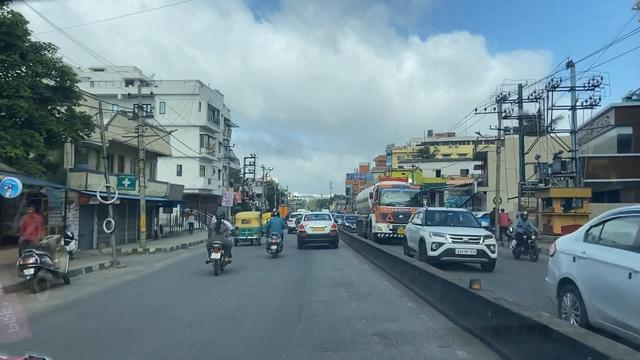LMV: (206, 211, 230, 273), (301, 213, 337, 246), (265, 206, 283, 257)
UnsurfacedRoad: (283, 259, 318, 352), (362, 313, 390, 353)
